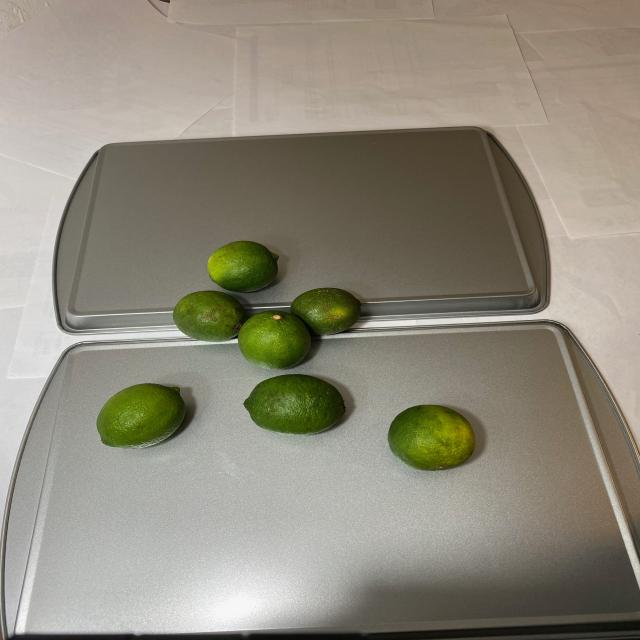lemon: (96, 238, 482, 468)
